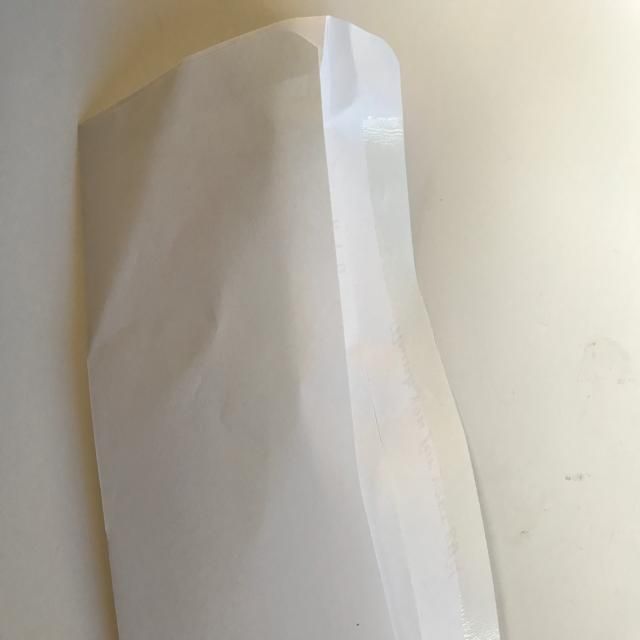paper: (71, 13, 502, 640)
